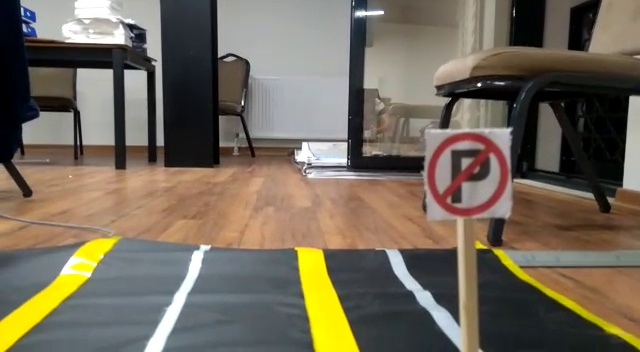park_yapilmaz: (418, 130, 516, 219)
